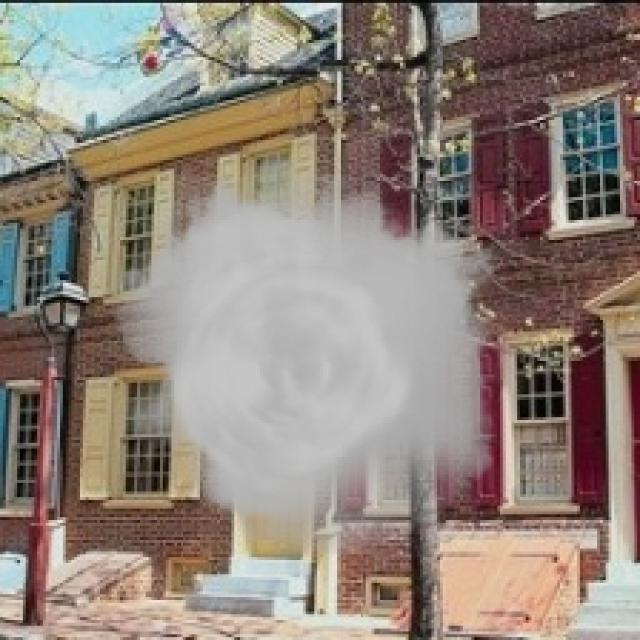Smoke: (100, 174, 514, 557)
